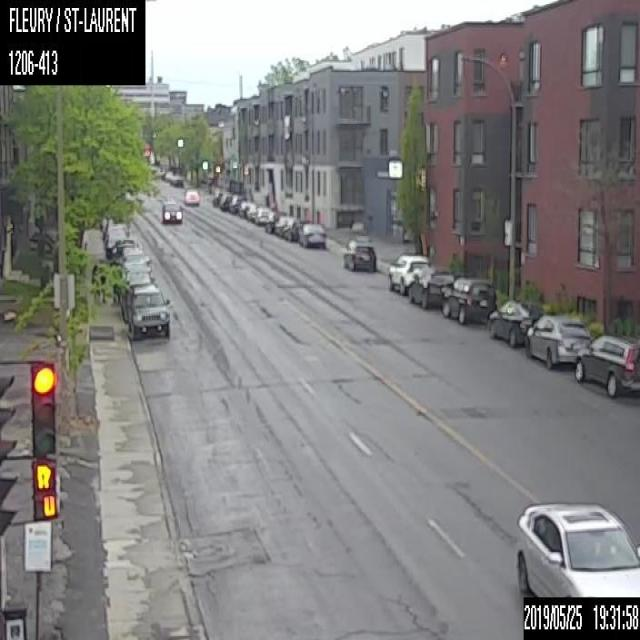vehicle: (515, 500, 639, 596), (575, 333, 639, 398), (524, 312, 592, 370), (486, 299, 544, 346), (440, 276, 496, 324), (125, 283, 170, 341), (408, 266, 454, 309), (388, 253, 434, 295), (341, 237, 376, 271), (124, 270, 156, 304), (299, 221, 326, 248), (160, 200, 183, 223), (283, 216, 304, 240), (123, 261, 152, 272), (228, 193, 244, 212), (254, 207, 270, 224), (184, 188, 199, 205), (265, 212, 277, 233), (274, 216, 286, 237), (218, 192, 232, 210), (238, 200, 252, 217), (211, 188, 223, 205), (246, 204, 258, 221)
